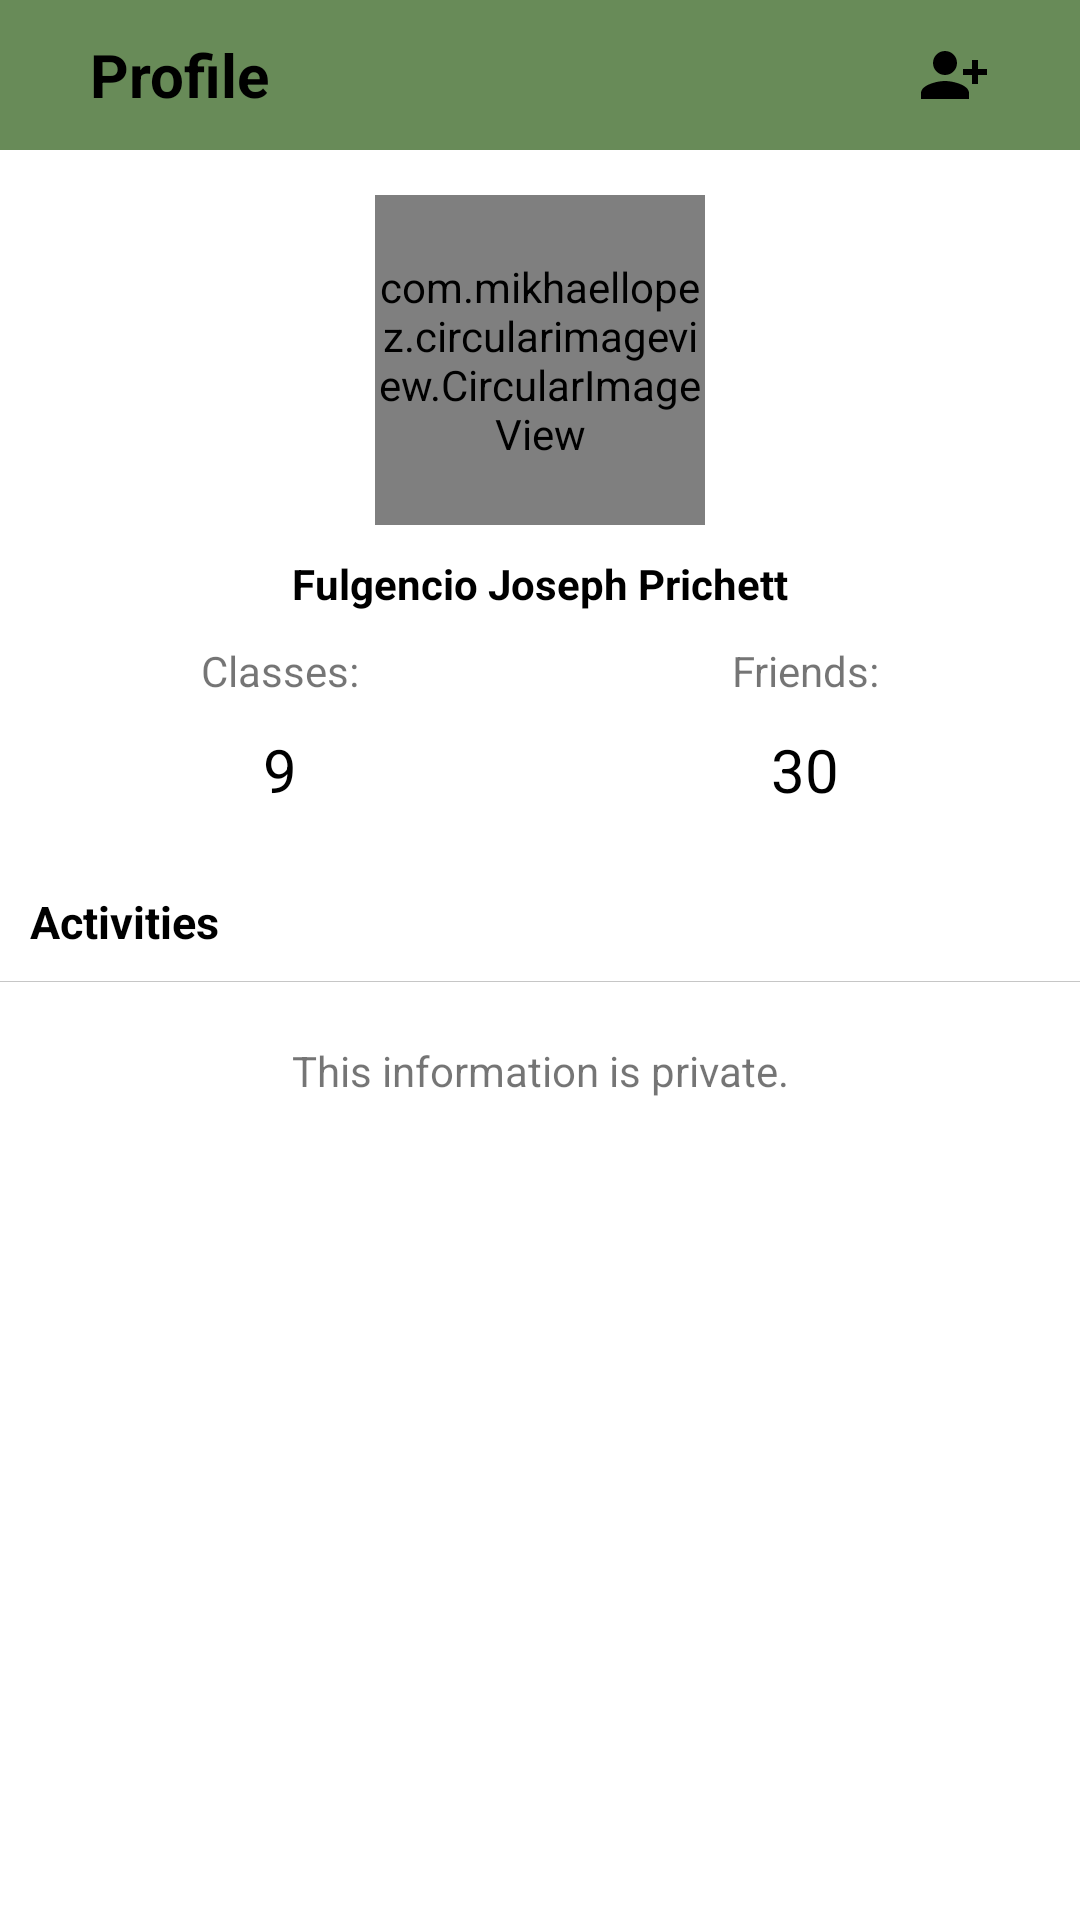

Icon bounding boxes for this 1080px x 1920px phone screenshot, format Rect(x1, y1, x2, y2):
person add: Rect(921, 51, 987, 99)
